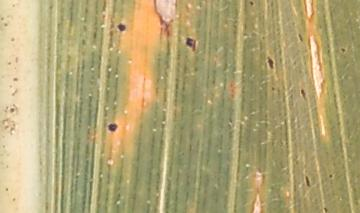tarspot: (186, 37, 197, 51), (115, 21, 127, 33), (267, 56, 275, 70), (304, 175, 312, 189), (299, 88, 307, 101), (107, 122, 117, 132), (297, 33, 303, 42), (340, 46, 347, 53), (328, 173, 334, 179), (270, 86, 276, 92), (249, 1, 255, 6), (323, 207, 328, 213)
